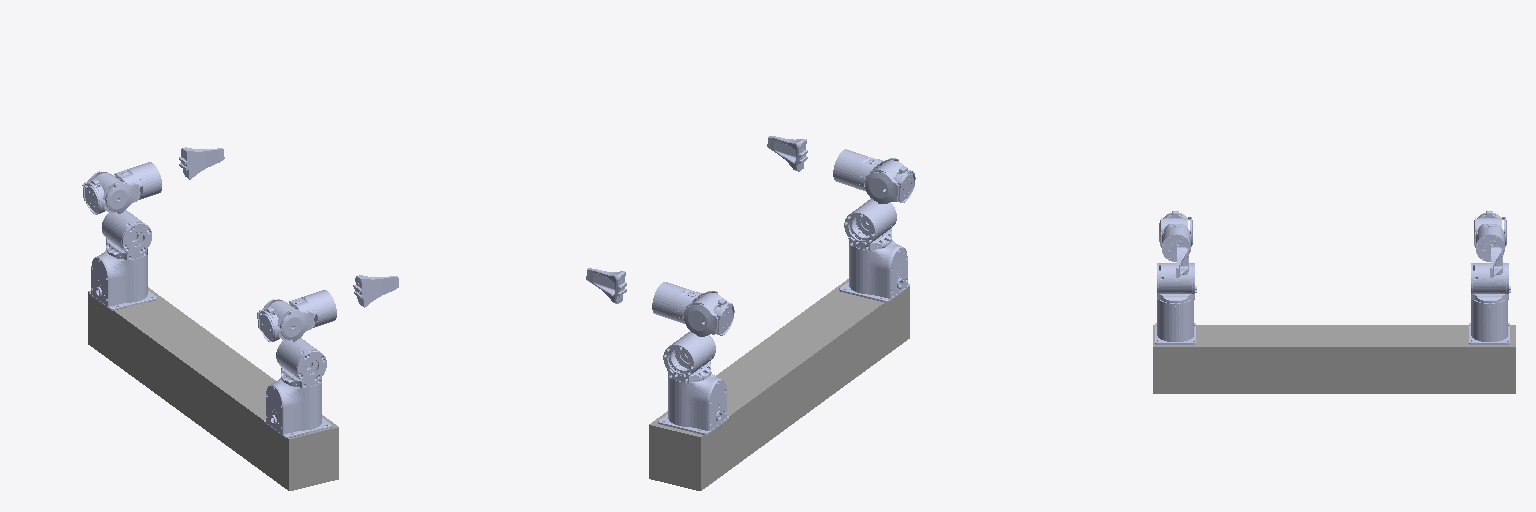
robot.urdf — piper:
<?xml version="1.0" ?>
<!-- =================================================================================== -->
<!-- |    This document was autogenerated by xacro from double_piper.xacro             | -->
<!-- |    EDITING THIS FILE BY HAND IS NOT RECOMMENDED                                 | -->
<!-- =================================================================================== -->
<robot name="piper">
  <link name="left/arm_base">
    <inertial>
      <origin rpy="0 0 0" xyz="-0.00979274765955341 1.82905827587138E-06 0.0410100126360189"/>
      <mass value="0.162548567403693"/>
      <inertia ixx="0.000226596924525071" ixy="-7.33972270153965E-08" ixz="2.13249977802622E-06" iyy="0.000269444772561524" iyz="8.15169009611054E-09" izz="0.000222318258878636"/>
    </inertial>
    <visual>
      <origin rpy="0 0 0" xyz="0 0 0"/>
      <geometry>
        <mesh filename="package://piper_description/meshes/dae/base_link.dae"/>
      </geometry>
      <material name="">
        <color rgba="0.792156862745098 0.819607843137255 0.933333333333333 1"/>
      </material>
    </visual>
    <collision>
      <origin rpy="0 0 0" xyz="0 0 0"/>
      <geometry>
        <mesh filename="package://piper_description/meshes/base_link.STL"/>
      </geometry>
    </collision>
  </link>
  <link name="left/link1">
    <inertial>
      <origin rpy="0 0 0" xyz="0.00131676031927024 0.000310288842008612 -0.00922874512303437"/>
      <mass value="0.0978679932242825"/>
      <inertia ixx="7.76684558296782E-05" ixy="1.09084650459924E-07" ixz="-1.9748053243241E-06" iyy="9.24967780161547E-05" iyz="9.91284646834582E-07" izz="8.24589062407807E-05"/>
    </inertial>
    <visual>
      <origin rpy="0 0 0" xyz="0 0 0"/>
      <geometry>
        <mesh filename="package://piper_description/meshes/dae/link1.dae"/>
      </geometry>
      <material name="">
        <color rgba="0.792156862745098 0.819607843137255 0.933333333333333 1"/>
      </material>
    </visual>
    <collision>
      <origin rpy="0 0 1.5708" xyz="0 0 0"/>
      <geometry>
        <mesh filename="package://piper_description/meshes/link1.STL"/>
      </geometry>
    </collision>
  </link>
  <joint name="left/joint1" type="revolute">
    <origin rpy="0 0 -1.5708" xyz="0 0 0.123"/>
    <parent link="left/arm_base"/>
    <child link="left/link1"/>
    <axis xyz="0 0 1"/>
    <limit effort="100" lower="-2.618" upper="2.618" velocity="3"/>
  </joint>
  <link name="left/link2">
    <inertial>
      <origin rpy="0 0 0" xyz="0.148793602378802 -0.00242026983944119 0.00175154638467948"/>
      <mass value="0.290888938633388"/>
      <inertia ixx="0.000148959640166183" ixy="-7.37750384371657E-05" ixz="-9.68688405196236E-07" iyy="0.00172800946632652" iyz="-1.09692225564224E-06" izz="0.0017754628344594"/>
    </inertial>
    <visual>
      <origin rpy="0 0 0" xyz="0 0 0"/>
      <geometry>
        <mesh filename="package://piper_description/meshes/dae/link2.dae"/>
      </geometry>
      <material name="">
        <color rgba="0.792156862745098 0.819607843137255 0.933333333333333 1"/>
      </material>
    </visual>
    <collision>
      <origin rpy="0 0 0.1" xyz="0 0 0"/>
      <geometry>
        <mesh filename="package://piper_description/meshes/link2.STL"/>
      </geometry>
    </collision>
  </link>
  <joint name="left/joint2" type="revolute">
    <origin rpy="1.5708 -0.034907 -1.5708" xyz="0 0 0"/>
    <parent link="left/link1"/>
    <child link="left/link2"/>
    <axis xyz="0 0 1"/>
    <limit effort="100" lower="0" upper="3.14" velocity="3"/>
  </joint>
  <link name="left/link3">
    <inertial>
      <origin rpy="0 0 0" xyz="-0.0996835215213704 0.0349477226691318 0.000508025815507312"/>
      <mass value="0.290847697793211"/>
      <inertia ixx="0.000107879011637167" ixy="2.92669521203626E-05" ixz="6.825922326238E-07" iyy="0.000214751671792086" iyz="-7.78469047878196E-07" izz="0.000241923439340319"/>
    </inertial>
    <visual>
      <origin rpy="0 0 0" xyz="0 0 0"/>
      <geometry>
        <mesh filename="package://piper_description/meshes/dae/link3.dae"/>
      </geometry>
      <material name="">
        <color rgba="0.792156862745098 0.819607843137255 0.933333333333333 1"/>
      </material>
    </visual>
    <collision>
      <origin rpy="0 0 -1.75" xyz="0 0 0"/>
      <geometry>
        <mesh filename="package://piper_description/meshes/link3.STL"/>
      </geometry>
    </collision>
  </link>
  <joint name="left/joint3" type="revolute">
    <origin rpy="0 0 0.06604341" xyz="0.28358 0.028726 0"/>
    <parent link="left/link2"/>
    <child link="left/link3"/>
    <axis xyz="0 0 1"/>
    <limit effort="100" lower="-2.697" upper="0" velocity="3"/>
  </joint>
  <link name="left/link4">
    <inertial>
      <origin rpy="0 0 0" xyz="0.000276464622387979 -0.00102803669324875 -0.00472830700561663"/>
      <mass value="0.127087348341362"/>
      <inertia ixx="3.82011730423416E-05" ixy="-4.92358350897513E-08" ixz="4.89589432973119E-08" iyy="4.87048555222578E-05" iyz="6.70802942500512E-08" izz="4.10592077565559E-05"/>
    </inertial>
    <visual>
      <origin rpy="0 0 0" xyz="0 0 0"/>
      <geometry>
        <mesh filename="package://piper_description/meshes/dae/link4.dae"/>
      </geometry>
      <material name="">
        <color rgba="0.792156862745098 0.819607843137255 0.933333333333333 1"/>
      </material>
    </visual>
    <collision>
      <origin rpy="0 0 0" xyz="0 0 0"/>
      <geometry>
        <mesh filename="package://piper_description/meshes/link4.STL"/>
      </geometry>
    </collision>
  </link>
  <joint name="left/joint4" type="revolute">
    <origin rpy="-1.5708 0 1.3826" xyz="-0.24221 0.068514 0"/>
    <parent link="left/link3"/>
    <child link="left/link4"/>
    <axis xyz="0 0 1"/>
    <limit effort="100" lower="-1.832" upper="1.832" velocity="3"/>
  </joint>
  <link name="left/link5">
    <inertial>
      <origin rpy="0 0 0" xyz="8.82262433516967E-05 0.0566829014808256 -0.00196119720482461"/>
      <mass value="0.144711242639457"/>
      <inertia ixx="4.39644313662493E-05" ixy="-3.59259686444846E-08" ixz="-1.89747741386183E-08" iyy="5.63173920951307E-05" iyz="-2.1540716689785E-07" izz="4.88713664675268E-05"/>
    </inertial>
    <visual>
      <origin rpy="0 0 0" xyz="0 0 0"/>
      <geometry>
        <mesh filename="package://piper_description/meshes/dae/link5.dae"/>
      </geometry>
      <material name="">
        <color rgba="0.792156862745098 0.819607843137255 0.933333333333333 1"/>
      </material>
    </visual>
    <collision>
      <origin rpy="0 0 -3.14" xyz="0 0 0"/>
      <geometry>
        <mesh filename="package://piper_description/meshes/link5.STL"/>
      </geometry>
    </collision>
  </link>
  <joint name="left/joint5" type="revolute">
    <origin rpy="1.5708 0 0" xyz="0 0 0"/>
    <parent link="left/link4"/>
    <child link="left/link5"/>
    <axis xyz="0 0 1"/>
    <limit effort="100" lower="-1.22" upper="1.22" velocity="3"/>
  </joint>
  <link name="left/link6">
    <inertial>
      <origin rpy="0 0 0" xyz="0.00103120214523473 0.0121761387587524 0.0315480874960164"/>
      <mass value="0.195187143240719"/>
      <inertia ixx="6.43790256535539E-05" ixy="-1.2366166157046E-06" ixz="1.97664606328472E-07" iyy="0.000126146396374301" iyz="2.41157078516408E-06" izz="0.000154087076816444"/>
    </inertial>
    <visual>
      <origin rpy="-1.57 0 0" xyz="-0.002 -0.008 0"/>
      <geometry>
        <mesh filename="package://piper_description/meshes/dae/camera_v3.dae"/>
      </geometry>
      <material name="">
        <color rgba="0.792156862745098 0.819607843137255 0.933333333333333 1"/>
      </material>
    </visual>
    <collision>
      <origin rpy="-1.57 0 0" xyz="-0.002 -0.008 0"/>
      <geometry>
        <mesh filename="package://piper_description/meshes/dae/camera_v3.dae"/>
      </geometry>
    </collision>
  </link>
  <joint name="left/joint6" type="revolute">
    <origin rpy="-1.5708 -1.5708 0" xyz="0 0.091 0.0014165"/>
    <parent link="left/link5"/>
    <child link="left/link6"/>
    <axis xyz="0 0 1"/>
    <limit effort="100" lower="-3.14" upper="3.14" velocity="3"/>
  </joint>
  <link name="left/link7">
    <inertial>
      <origin rpy="0 0 0" xyz="-0.000277778383727112 -0.0467673043650824 -0.00921029491873201"/>
      <mass value="0.02648229234527"/>
      <inertia ixx="9.99787479924589E-06" ixy="-1.57548495096104E-07" ixz="-2.71342775003487E-08" iyy="6.1795212293655E-06" iyz="-1.58939803580081E-06" izz="1.42102717246564E-05"/>
    </inertial>
    <visual>
      <origin rpy="0 0 0" xyz="0 0 0"/>
      <geometry>
        <mesh filename="package://piper_description/meshes/dae/link7.dae"/>
      </geometry>
      <material name="">
        <color rgba="0.792156862745098 0.819607843137255 0.933333333333333 1"/>
      </material>
    </visual>
    <collision>
      <origin rpy="0 3.14 0" xyz="-0.001 0 0.0003"/>
      <geometry>
        <mesh filename="package://piper_description/meshes/link7.STL"/>
      </geometry>
    </collision>
  </link>
  <joint name="left/joint7" type="prismatic">
    <origin rpy="1.5708 0 1.5708" xyz="0 0 0.13503"/>
    <parent link="left/link6"/>
    <child link="left/link7"/>
    <axis xyz="0 0 -1"/>
    <limit effort="100" lower="0" upper="0.05" velocity="1"/>
  </joint>
  <link name="left/link8">
    <inertial>
      <origin rpy="0 0 0" xyz="0.000277816920932317 0.0467673824063769 -0.00921030054508036"/>
      <mass value="0.0264822021416248"/>
      <inertia ixx="9.99779119357223E-06" ixy="-1.57542283433504E-07" ixz="2.71367446701359E-08" iyy="6.17952441557932E-06" iyz="1.58939319453383E-06" izz="1.4210192754512E-05"/>
    </inertial>
    <visual>
      <origin rpy="0 0 0" xyz="0 0 0"/>
      <geometry>
        <mesh filename="package://piper_description/meshes/dae/link8.dae"/>
      </geometry>
      <material name="">
        <color rgba="0.792156862745098 0.819607843137255 0.933333333333333 1"/>
      </material>
    </visual>
    <collision>
      <origin rpy="3.14 0 0" xyz="-0.001 0 0.0003"/>
      <geometry>
        <mesh filename="package://piper_description/meshes/link8.STL"/>
      </geometry>
    </collision>
  </link>
  <joint name="left/joint8" type="prismatic">
    <origin rpy="-1.5708 0 1.5708" xyz="0 0 0.13503"/>
    <parent link="left/link6"/>
    <child link="left/link8"/>
    <axis xyz="0 0 1"/>
    <limit effort="100" lower="-0.05" upper="0" velocity="1"/>
  </joint>
  <link name="right/arm_base">
    <inertial>
      <origin rpy="0 0 0" xyz="-0.00979274765955341 1.82905827587138E-06 0.0410100126360189"/>
      <mass value="0.162548567403693"/>
      <inertia ixx="0.000226596924525071" ixy="-7.33972270153965E-08" ixz="2.13249977802622E-06" iyy="0.000269444772561524" iyz="8.15169009611054E-09" izz="0.000222318258878636"/>
    </inertial>
    <visual>
      <origin rpy="0 0 0" xyz="0 0 0"/>
      <geometry>
        <mesh filename="package://piper_description/meshes/dae/base_link.dae"/>
      </geometry>
      <material name="">
        <color rgba="0.792156862745098 0.819607843137255 0.933333333333333 1"/>
      </material>
    </visual>
    <collision>
      <origin rpy="0 0 0" xyz="0 0 0"/>
      <geometry>
        <mesh filename="package://piper_description/meshes/base_link.STL"/>
      </geometry>
    </collision>
  </link>
  <link name="right/link1">
    <inertial>
      <origin rpy="0 0 0" xyz="0.00131676031927024 0.000310288842008612 -0.00922874512303437"/>
      <mass value="0.0978679932242825"/>
      <inertia ixx="7.76684558296782E-05" ixy="1.09084650459924E-07" ixz="-1.9748053243241E-06" iyy="9.24967780161547E-05" iyz="9.91284646834582E-07" izz="8.24589062407807E-05"/>
    </inertial>
    <visual>
      <origin rpy="0 0 0" xyz="0 0 0"/>
      <geometry>
        <mesh filename="package://piper_description/meshes/dae/link1.dae"/>
      </geometry>
      <material name="">
        <color rgba="0.792156862745098 0.819607843137255 0.933333333333333 1"/>
      </material>
    </visual>
    <collision>
      <origin rpy="0 0 1.5708" xyz="0 0 0"/>
      <geometry>
        <mesh filename="package://piper_description/meshes/link1.STL"/>
      </geometry>
    </collision>
  </link>
  <joint name="right/joint1" type="revolute">
    <origin rpy="0 0 -1.5708" xyz="0 0 0.123"/>
    <parent link="right/arm_base"/>
    <child link="right/link1"/>
    <axis xyz="0 0 1"/>
    <limit effort="100" lower="-2.618" upper="2.618" velocity="3"/>
  </joint>
  <link name="right/link2">
    <inertial>
      <origin rpy="0 0 0" xyz="0.148793602378802 -0.00242026983944119 0.00175154638467948"/>
      <mass value="0.290888938633388"/>
      <inertia ixx="0.000148959640166183" ixy="-7.37750384371657E-05" ixz="-9.68688405196236E-07" iyy="0.00172800946632652" iyz="-1.09692225564224E-06" izz="0.0017754628344594"/>
    </inertial>
    <visual>
      <origin rpy="0 0 0" xyz="0 0 0"/>
      <geometry>
        <mesh filename="package://piper_description/meshes/dae/link2.dae"/>
      </geometry>
      <material name="">
        <color rgba="0.792156862745098 0.819607843137255 0.933333333333333 1"/>
      </material>
    </visual>
    <collision>
      <origin rpy="0 0 0.1" xyz="0 0 0"/>
      <geometry>
        <mesh filename="package://piper_description/meshes/link2.STL"/>
      </geometry>
    </collision>
  </link>
  <joint name="right/joint2" type="revolute">
    <origin rpy="1.5708 -0.034907 -1.5708" xyz="0 0 0"/>
    <parent link="right/link1"/>
    <child link="right/link2"/>
    <axis xyz="0 0 1"/>
    <limit effort="100" lower="0" upper="3.14" velocity="3"/>
  </joint>
  <link name="right/link3">
    <inertial>
      <origin rpy="0 0 0" xyz="-0.0996835215213704 0.0349477226691318 0.000508025815507312"/>
      <mass value="0.290847697793211"/>
      <inertia ixx="0.000107879011637167" ixy="2.92669521203626E-05" ixz="6.825922326238E-07" iyy="0.000214751671792086" iyz="-7.78469047878196E-07" izz="0.000241923439340319"/>
    </inertial>
    <visual>
      <origin rpy="0 0 0" xyz="0 0 0"/>
      <geometry>
        <mesh filename="package://piper_description/meshes/dae/link3.dae"/>
      </geometry>
      <material name="">
        <color rgba="0.792156862745098 0.819607843137255 0.933333333333333 1"/>
      </material>
    </visual>
    <collision>
      <origin rpy="0 0 -1.75" xyz="0 0 0"/>
      <geometry>
        <mesh filename="package://piper_description/meshes/link3.STL"/>
      </geometry>
    </collision>
  </link>
  <joint name="right/joint3" type="revolute">
    <origin rpy="0 0 0.06604341" xyz="0.28358 0.028726 0"/>
    <parent link="right/link2"/>
    <child link="right/link3"/>
    <axis xyz="0 0 1"/>
    <limit effort="100" lower="-2.697" upper="0" velocity="3"/>
  </joint>
  <link name="right/link4">
    <inertial>
      <origin rpy="0 0 0" xyz="0.000276464622387979 -0.00102803669324875 -0.00472830700561663"/>
      <mass value="0.127087348341362"/>
      <inertia ixx="3.82011730423416E-05" ixy="-4.92358350897513E-08" ixz="4.89589432973119E-08" iyy="4.87048555222578E-05" iyz="6.70802942500512E-08" izz="4.10592077565559E-05"/>
    </inertial>
    <visual>
      <origin rpy="0 0 0" xyz="0 0 0"/>
      <geometry>
        <mesh filename="package://piper_description/meshes/dae/link4.dae"/>
      </geometry>
      <material name="">
        <color rgba="0.792156862745098 0.819607843137255 0.933333333333333 1"/>
      </material>
    </visual>
    <collision>
      <origin rpy="0 0 0" xyz="0 0 0"/>
      <geometry>
        <mesh filename="package://piper_description/meshes/link4.STL"/>
      </geometry>
    </collision>
  </link>
  <joint name="right/joint4" type="revolute">
    <origin rpy="-1.5708 0 1.3826" xyz="-0.24221 0.068514 0"/>
    <parent link="right/link3"/>
    <child link="right/link4"/>
    <axis xyz="0 0 1"/>
    <limit effort="100" lower="-1.832" upper="1.832" velocity="3"/>
  </joint>
  <link name="right/link5">
    <inertial>
      <origin rpy="0 0 0" xyz="8.82262433516967E-05 0.0566829014808256 -0.00196119720482461"/>
      <mass value="0.144711242639457"/>
      <inertia ixx="4.39644313662493E-05" ixy="-3.59259686444846E-08" ixz="-1.89747741386183E-08" iyy="5.63173920951307E-05" iyz="-2.1540716689785E-07" izz="4.88713664675268E-05"/>
    </inertial>
    <visual>
      <origin rpy="0 0 0" xyz="0 0 0"/>
      <geometry>
        <mesh filename="package://piper_description/meshes/dae/link5.dae"/>
      </geometry>
      <material name="">
        <color rgba="0.792156862745098 0.819607843137255 0.933333333333333 1"/>
      </material>
    </visual>
    <collision>
      <origin rpy="0 0 -3.14" xyz="0 0 0"/>
      <geometry>
        <mesh filename="package://piper_description/meshes/link5.STL"/>
      </geometry>
    </collision>
  </link>
  <joint name="right/joint5" type="revolute">
    <origin rpy="1.5708 0 0" xyz="0 0 0"/>
    <parent link="right/link4"/>
    <child link="right/link5"/>
    <axis xyz="0 0 1"/>
    <limit effort="100" lower="-1.22" upper="1.22" velocity="3"/>
  </joint>
  <link name="right/link6">
    <inertial>
      <origin rpy="0 0 0" xyz="0.00103120214523473 0.0121761387587524 0.0315480874960164"/>
      <mass value="0.195187143240719"/>
      <inertia ixx="6.43790256535539E-05" ixy="-1.2366166157046E-06" ixz="1.97664606328472E-07" iyy="0.000126146396374301" iyz="2.41157078516408E-06" izz="0.000154087076816444"/>
    </inertial>
    <visual>
      <origin rpy="-1.57 0 0" xyz="-0.002 -0.008 0"/>
      <geometry>
        <mesh filename="package://piper_description/meshes/dae/camera_v3.dae"/>
      </geometry>
      <material name="">
        <color rgba="0.792156862745098 0.819607843137255 0.933333333333333 1"/>
      </material>
    </visual>
    <collision>
      <origin rpy="-1.57 0 0" xyz="-0.002 -0.008 0"/>
      <geometry>
        <mesh filename="package://piper_description/meshes/dae/camera_v3.dae"/>
      </geometry>
    </collision>
  </link>
  <joint name="right/joint6" type="revolute">
    <origin rpy="-1.5708 -1.5708 0" xyz="0 0.091 0.0014165"/>
    <parent link="right/link5"/>
    <child link="right/link6"/>
    <axis xyz="0 0 1"/>
    <limit effort="100" lower="-3.14" upper="3.14" velocity="3"/>
  </joint>
  <link name="right/link7">
    <inertial>
      <origin rpy="0 0 0" xyz="-0.000277778383727112 -0.0467673043650824 -0.00921029491873201"/>
      <mass value="0.02648229234527"/>
      <inertia ixx="9.99787479924589E-06" ixy="-1.57548495096104E-07" ixz="-2.71342775003487E-08" iyy="6.1795212293655E-06" iyz="-1.58939803580081E-06" izz="1.42102717246564E-05"/>
    </inertial>
    <visual>
      <origin rpy="0 0 0" xyz="0 0 0"/>
      <geometry>
        <mesh filename="package://piper_description/meshes/dae/link7.dae"/>
      </geometry>
      <material name="">
        <color rgba="0.792156862745098 0.819607843137255 0.933333333333333 1"/>
      </material>
    </visual>
    <collision>
      <origin rpy="0 3.14 0" xyz="-0.001 0 0.0003"/>
      <geometry>
        <mesh filename="package://piper_description/meshes/link7.STL"/>
      </geometry>
    </collision>
  </link>
  <joint name="right/joint7" type="prismatic">
    <origin rpy="1.5708 0 1.5708" xyz="0 0 0.13503"/>
    <parent link="right/link6"/>
    <child link="right/link7"/>
    <axis xyz="0 0 -1"/>
    <limit effort="100" lower="0" upper="0.05" velocity="1"/>
  </joint>
  <link name="right/link8">
    <inertial>
      <origin rpy="0 0 0" xyz="0.000277816920932317 0.0467673824063769 -0.00921030054508036"/>
      <mass value="0.0264822021416248"/>
      <inertia ixx="9.99779119357223E-06" ixy="-1.57542283433504E-07" ixz="2.71367446701359E-08" iyy="6.17952441557932E-06" iyz="1.58939319453383E-06" izz="1.4210192754512E-05"/>
    </inertial>
    <visual>
      <origin rpy="0 0 0" xyz="0 0 0"/>
      <geometry>
        <mesh filename="package://piper_description/meshes/dae/link8.dae"/>
      </geometry>
      <material name="">
        <color rgba="0.792156862745098 0.819607843137255 0.933333333333333 1"/>
      </material>
    </visual>
    <collision>
      <origin rpy="3.14 0 0" xyz="-0.001 0 0.0003"/>
      <geometry>
        <mesh filename="package://piper_description/meshes/link8.STL"/>
      </geometry>
    </collision>
  </link>
  <joint name="right/joint8" type="prismatic">
    <origin rpy="-1.5708 0 1.5708" xyz="0 0 0.13503"/>
    <parent link="right/link6"/>
    <child link="right/link8"/>
    <axis xyz="0 0 1"/>
    <limit effort="100" lower="-0.05" upper="0" velocity="1"/>
  </joint>
  <link name="box_link">
    <visual>
      <geometry>
        <box size="0.1 0.7 0.1"/>
      </geometry>
      <material name="LightGrey">
        <color rgba="0.7 0.7 0.7 1.0"/>
      </material>
    </visual>
    <collision>
      <geometry>
        <box size="0.1 0.7 0.05"/>
      </geometry>
    </collision>
    <inertial>
      <mass value="0.11"/>
      <origin rpy="0.0 0.0 0.0" xyz="0.0 0.0 0.0"/>
      <inertia ixx="0.0" ixy="0.0" ixz="0.0" iyy="0.0" iyz="0.0" izz="0.0"/>
    </inertial>
  </link>
  <joint name="arm_and_lifting_left" type="fixed">
    <origin rpy="0.0 0.0 0.0" xyz="0 0.30 0.05"/>
    <parent link="box_link"/>
    <child link="left/arm_base"/>
    <axis xyz="0.0 0.0 0.0"/>
    <limit effort="0.0" lower="0.0" upper="0.0" velocity="0.0"/>
  </joint>
  <joint name="arm_and_lifting_right" type="fixed">
    <origin rpy="0.0 0.0 0.0" xyz="0 -0.306 0.05"/>
    <parent link="box_link"/>
    <child link="right/arm_base"/>
    <axis xyz="0.0 0.0 0.0"/>
    <limit effort="0.0" lower="0.0" upper="0.0" velocity="0.0"/>
  </joint>
</robot>

--- Render facts (derived) ---
The picture shows the robot from 3 angles, left to right: view 1: azimuth 30°, elevation 25°; view 2: azimuth 150°, elevation 25°; view 3: azimuth 270°, elevation 25°; orthographic projection.
Robot: piper — 19 links, 18 joints (12 revolute, 4 prismatic, 2 fixed); root link box_link; default pose: all joints at 0.
Links seen in each view (by area): view 1: box_link, left/arm_base, right/arm_base, left/link1, right/link1, left/link5, right/link5, right/link4, left/link4, right/link8, left/link8; view 2: box_link, right/arm_base, left/arm_base, right/link1, left/link1, left/link4, right/link4, left/link5, right/link5, left/link8, right/link8; view 3: box_link, left/arm_base, right/arm_base, right/link1, left/link1, right/link5, left/link5.
Boxes of the visible links, <box> form: box_link: <box>88,287,338,490</box>; left/arm_base: <box>89,251,156,310</box>; right/arm_base: <box>264,378,331,437</box>; left/link1: <box>102,210,151,259</box>; right/link1: <box>276,338,326,387</box>; left/link5: <box>105,162,161,213</box>; right/link5: <box>280,290,336,341</box>; right/link4: <box>257,299,296,341</box>; left/link4: <box>82,171,121,214</box>; right/link8: <box>353,275,398,307</box>; left/link8: <box>179,147,224,179</box>; box_link: <box>649,279,909,490</box>; right/arm_base: <box>839,240,909,302</box>; left/arm_base: <box>658,372,728,434</box>; right/link1: <box>844,199,896,250</box>; left/link1: <box>663,331,715,382</box>; left/link4: <box>684,293,734,336</box>; right/link4: <box>865,160,915,203</box>; left/link5: <box>652,282,724,323</box>; right/link5: <box>833,149,904,190</box>; left/link8: <box>586,268,626,303</box>; right/link8: <box>767,136,807,171</box>; box_link: <box>1153,325,1515,393</box>; left/arm_base: <box>1469,300,1509,344</box>; right/arm_base: <box>1155,300,1195,344</box>; right/link1: <box>1157,263,1196,303</box>; left/link1: <box>1471,263,1510,303</box>; right/link5: <box>1159,218,1190,261</box>; left/link5: <box>1474,218,1504,261</box>.
Size in the robot's own frame: 0.3502 by 0.9089 by 0.566 metres.
Meshes: 9 distinct files referenced, 10 mesh visuals loaded (5 Collada DAE); not drawn: 8 (reference not matched to a file when rendering).
